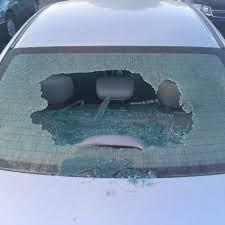Rear-windscreen-Damage: (0, 39, 224, 195)
